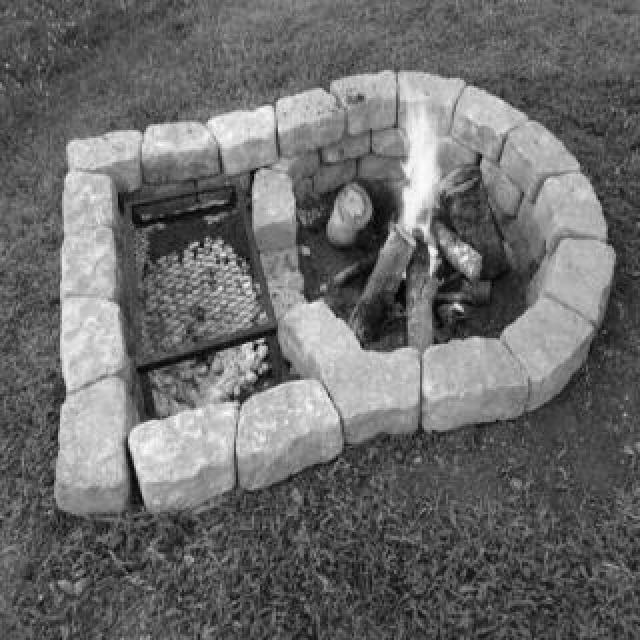Fire: (370, 76, 448, 268)
